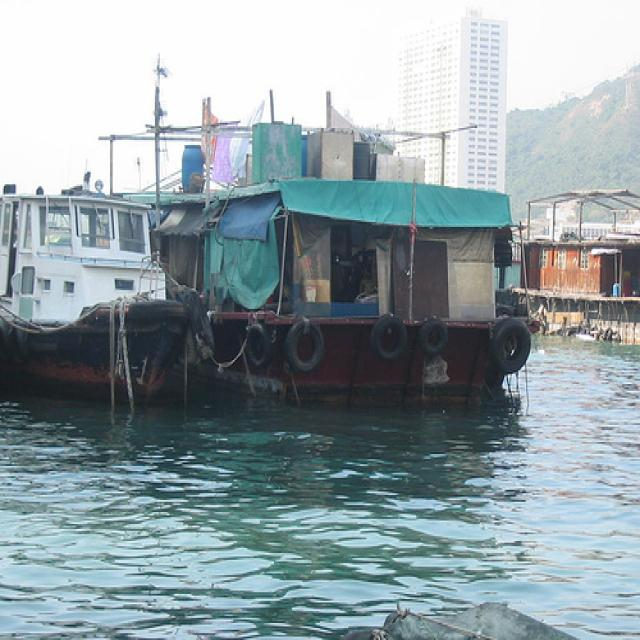boat: (97, 92, 528, 411), (1, 168, 193, 411)
